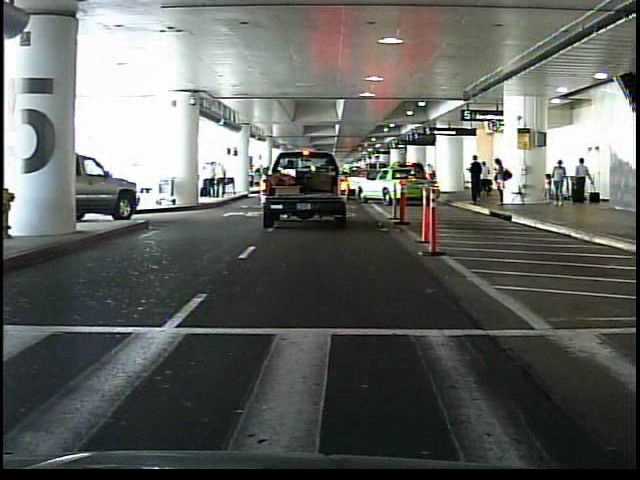person: (493, 157, 512, 209), (468, 154, 487, 206), (481, 157, 494, 200)
